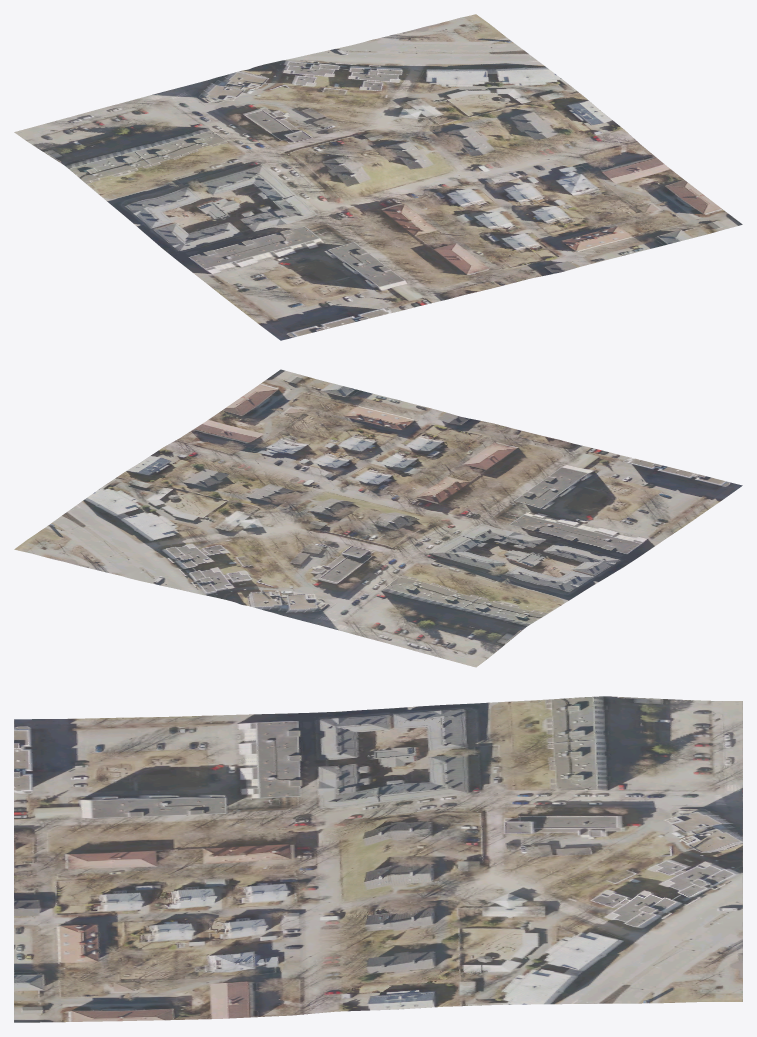
Rendered from CM_Terrain_24488410_6821636.fbx.
The picture shows the model from 3 angles, top to bottom: view 1: azimuth 30°, elevation 25°; view 2: azimuth 150°, elevation 25°; view 3: azimuth 270°, elevation 25°; orthographic projection. The views are drawn at different scales.
Parts seen in each view (by area): view 1: CM_Terrain_24488410_6821636_LOD0; view 2: CM_Terrain_24488410_6821636_LOD0; view 3: CM_Terrain_24488410_6821636_LOD0.
Part boxes in pixels (<box>): CM_Terrain_24488410_6821636_LOD0: <box>14,14,742,340</box>; CM_Terrain_24488410_6821636_LOD0: <box>14,369,742,667</box>; CM_Terrain_24488410_6821636_LOD0: <box>14,696,742,1022</box>.
Size of what is drawn, in the model's own units: 205 by 8.79 by 205.
